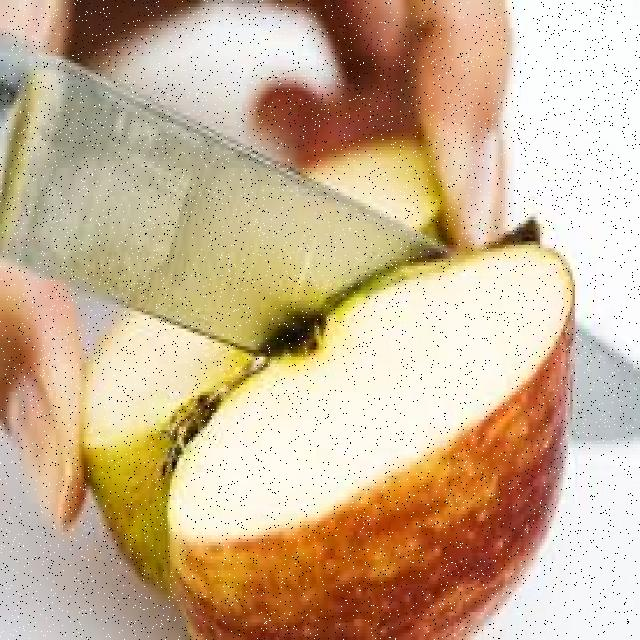Apple: (68, 230, 574, 639)
